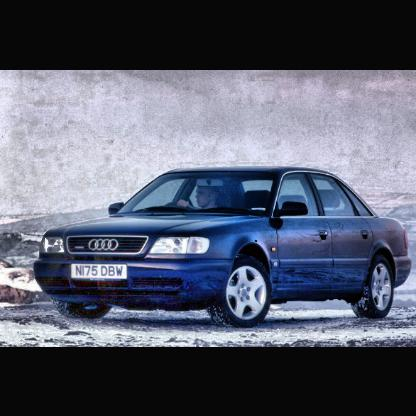Audi V8 Sedan 1994: (32, 166, 413, 326)
